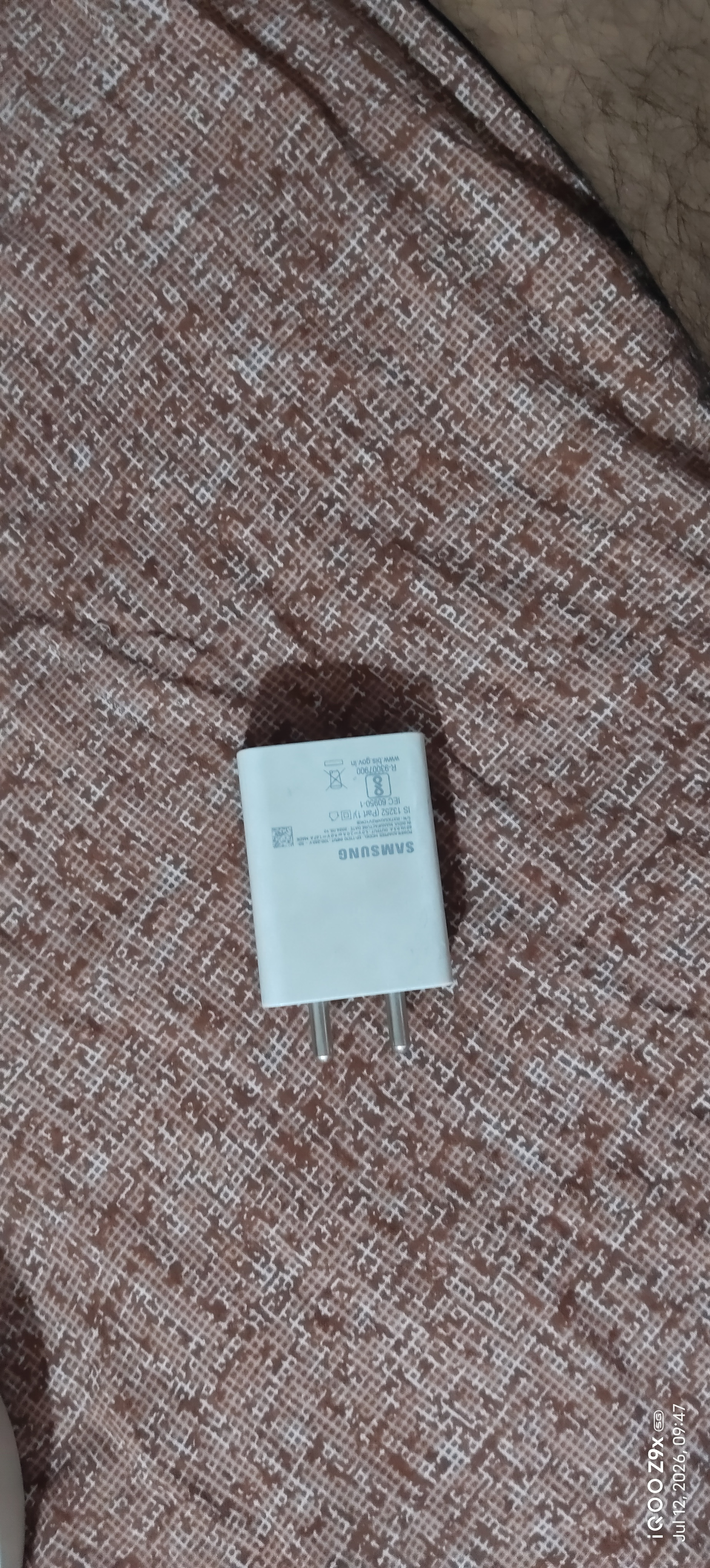charger: (209, 719, 484, 1081)
